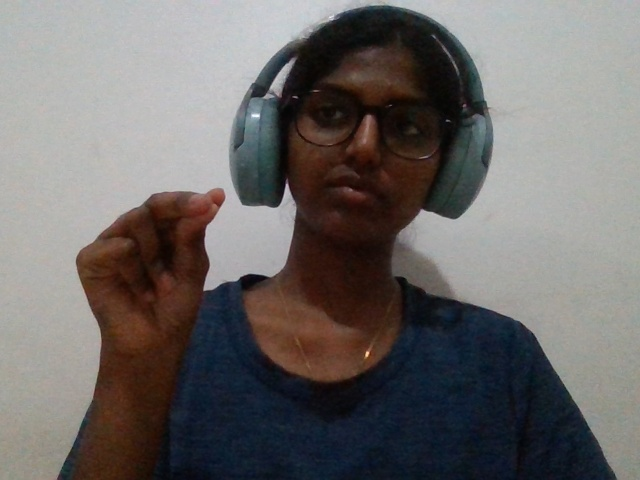No: (50, 178, 265, 424)
